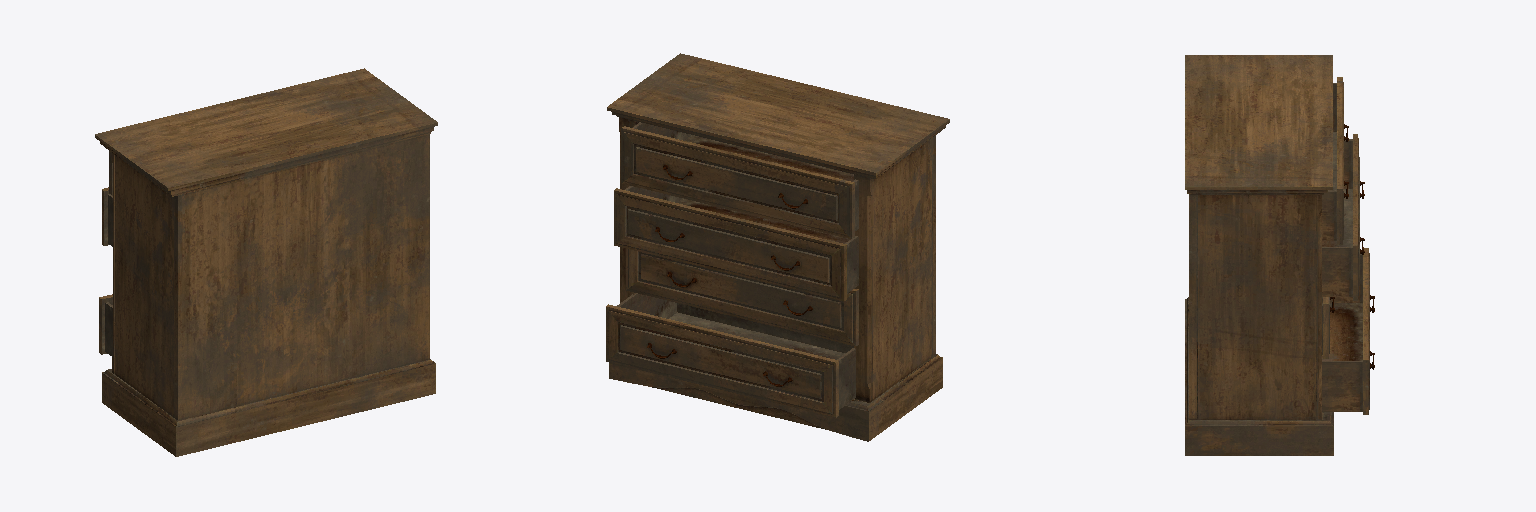
3 views of the same model, side by side, from view 1: azimuth 30°, elevation 25°; view 2: azimuth 150°, elevation 25°; view 3: azimuth 270°, elevation 25° (orthographic).
Parts seen in each view (by area): view 1: SM_Dresser_01_B; view 2: SM_Dresser_01_B; view 3: SM_Dresser_01_B.
Boxes of the visible parts, box(x1,y1,x2,y2) form: SM_Dresser_01_B: box(95, 68, 437, 456); SM_Dresser_01_B: box(606, 53, 949, 441); SM_Dresser_01_B: box(1185, 55, 1374, 455).
Bounding box in the file's own units: 104 × 99.91 × 63.73.
Materials: 2 (2 with a texture image).